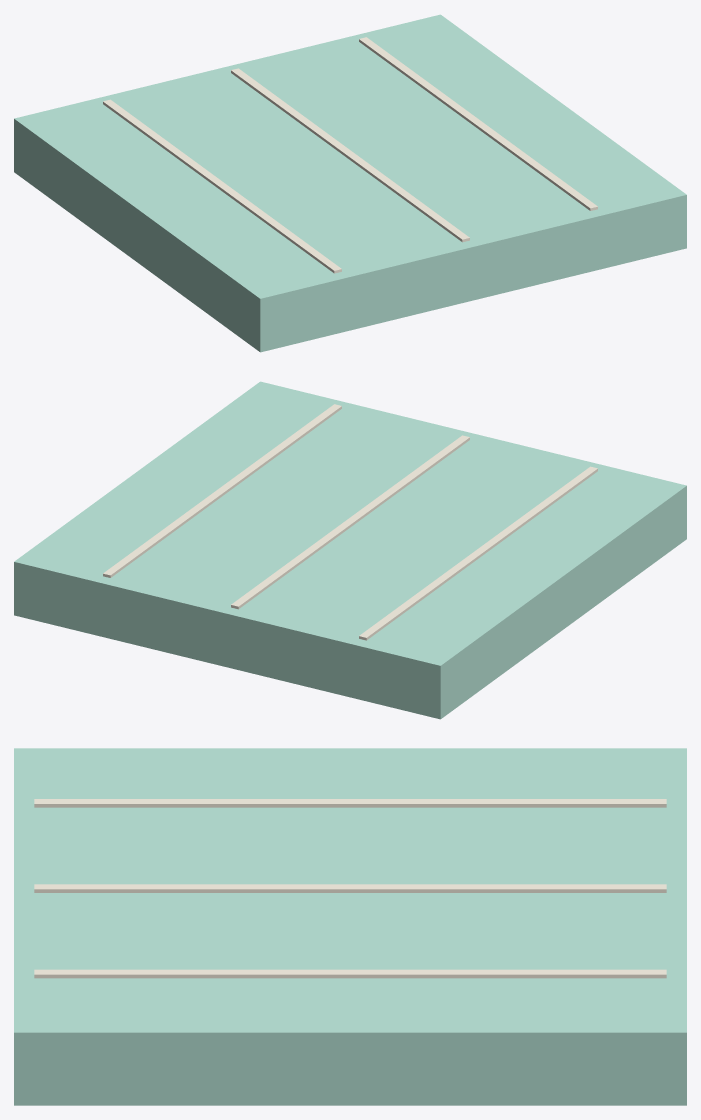
Rendered from floor-mint.glb.
3 views of the same model, one above another, from view 1: azimuth 30°, elevation 25°; view 2: azimuth 150°, elevation 25°; view 3: azimuth 270°, elevation 25° (orthographic). The views are drawn at different scales.
Visible parts, largest first — view 1: base, seam (×3); view 2: base, seam (×3); view 3: base, seam (×3).
Part boxes in pixels (x1,y1,x2,y2): base: (14,14,686,352); seam (×3): (103,37,597,273); base: (14,381,686,719); seam (×3): (103,404,597,640); base: (14,748,686,1105); seam (×3): (34,799,666,978).
Bounding box in the file's own units: 1 × 0.126 × 1.
